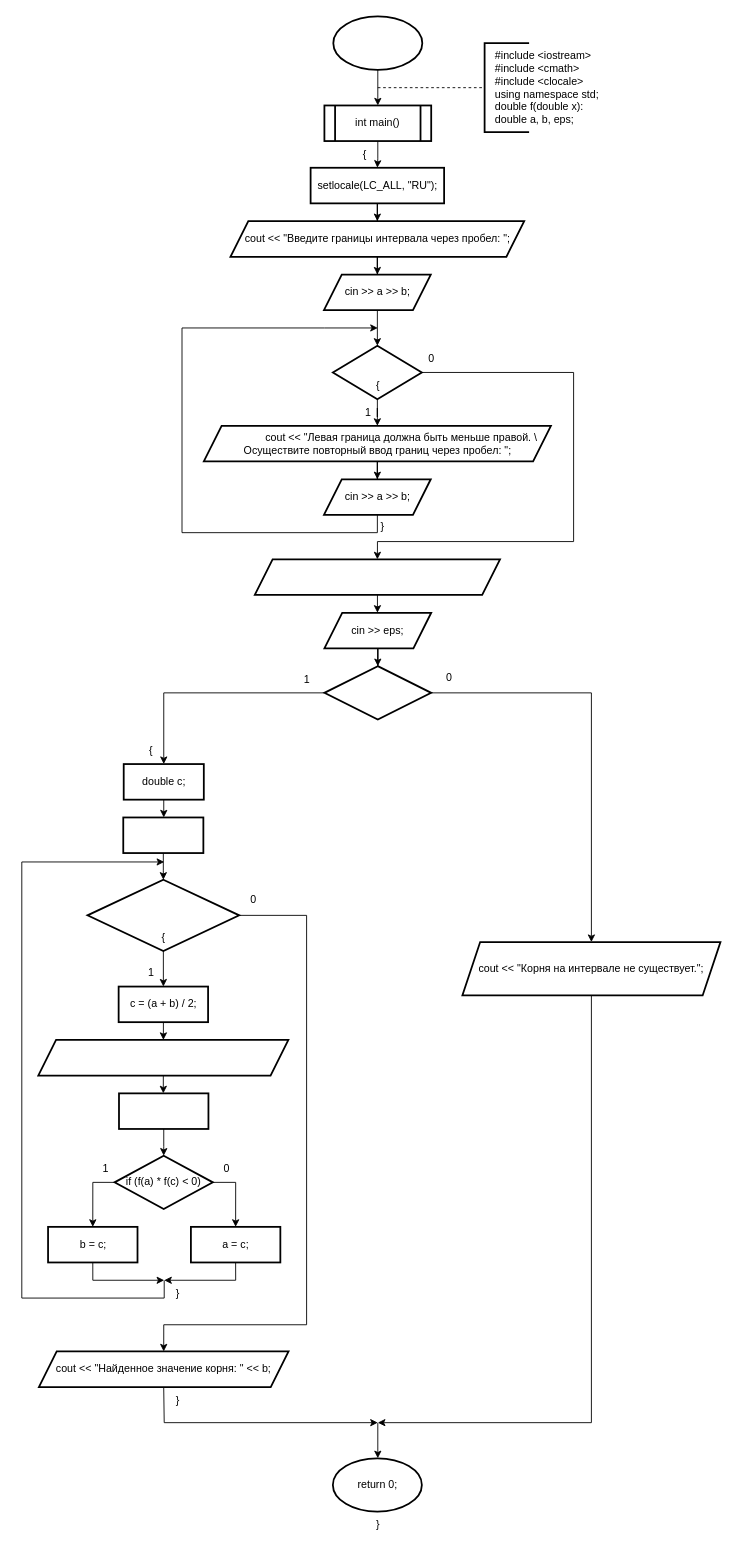
The diagram is 737 pixels wide and 1553 high, and some of its shapes have lost their labels. Each missing label, with the box of its shape:
cout << "Введите точность вычислений: ";: (253, 558, 500, 595)
cout << "Итерация " << k << ':' << c << endl;: (37, 1039, 289, 1076)
if (f(a) * f(b) < 0): (323, 665, 432, 720)
int k = 1;: (122, 816, 204, 854)
k++;: (118, 1092, 209, 1129)
while (a >= b): (332, 344, 422, 400)
while (abs(a - b) >= eps): (86, 878, 240, 951)
Начало: (332, 15, 423, 70)
